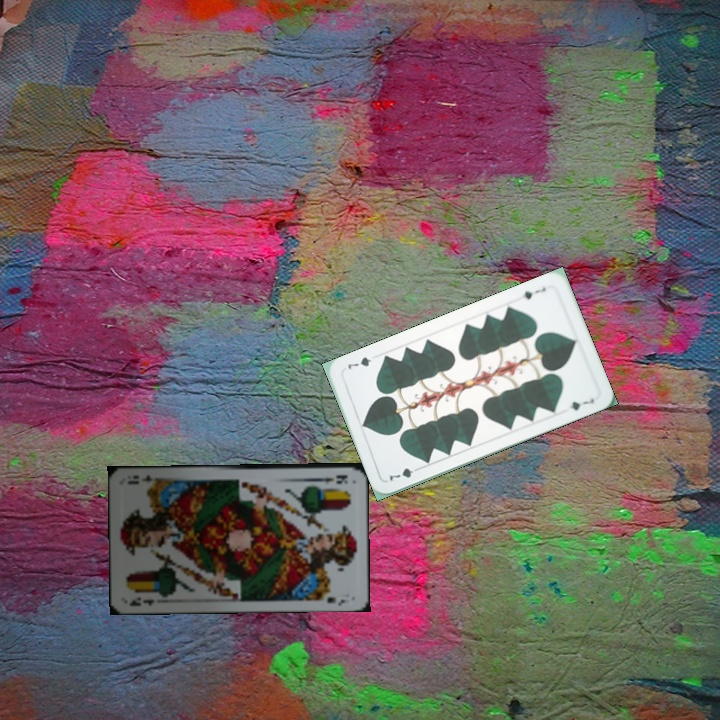EK: (311, 471, 350, 486), (125, 593, 157, 609)
G7: (385, 463, 423, 484), (519, 283, 548, 302)
